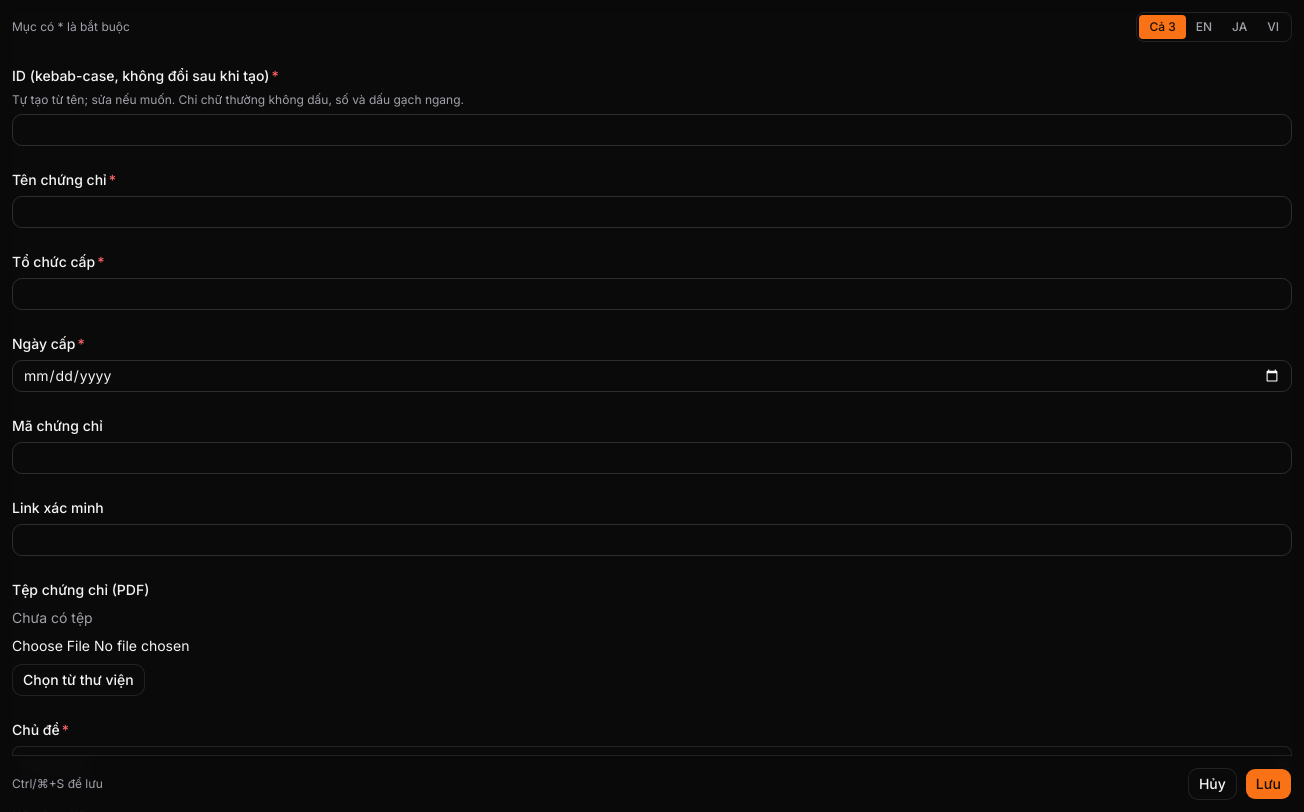
Test: form validation › clears a fixed field from the summary at once
Click the button "Lưu" at {"x": 1268, "y": 784}, box [1245, 768, 1292, 800]
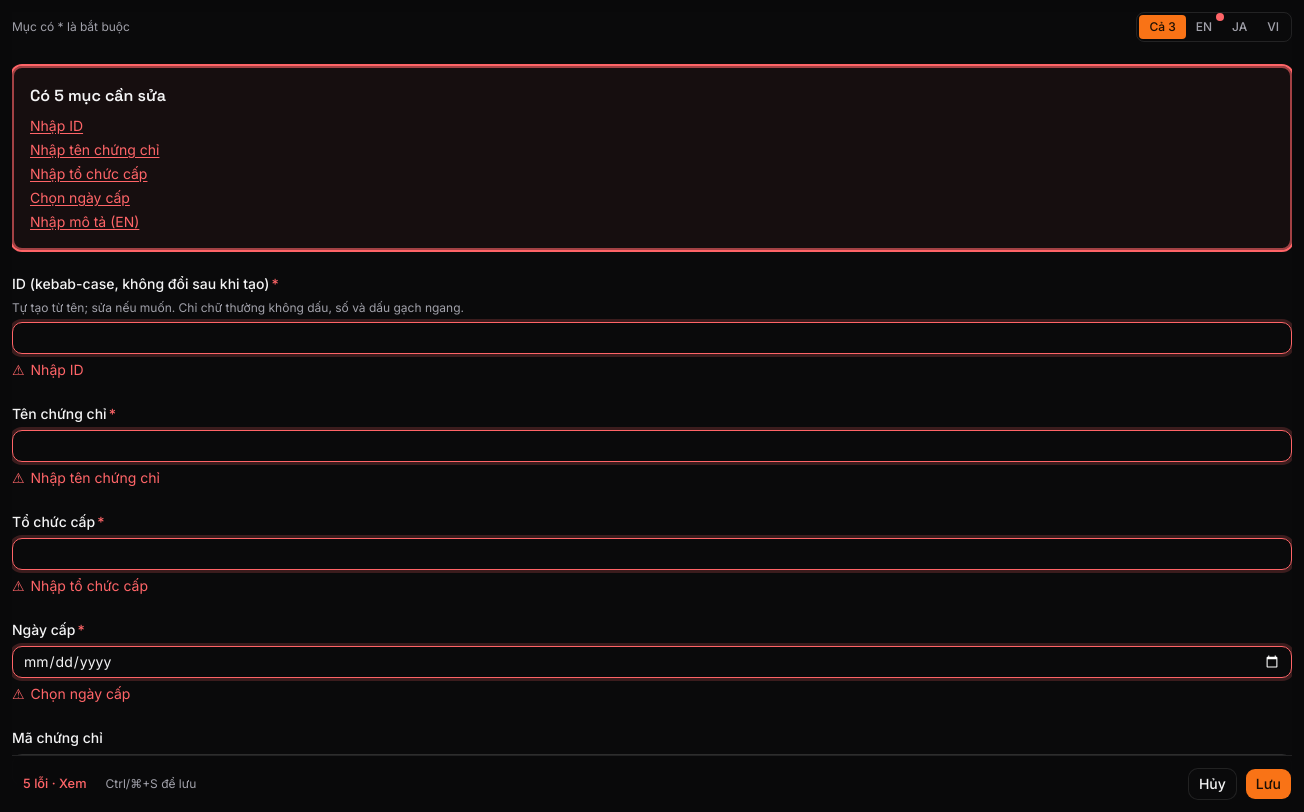
Type "IELTS" into the field with id "field-name" at {"x": 652, "y": 446}, box [12, 430, 1292, 462]
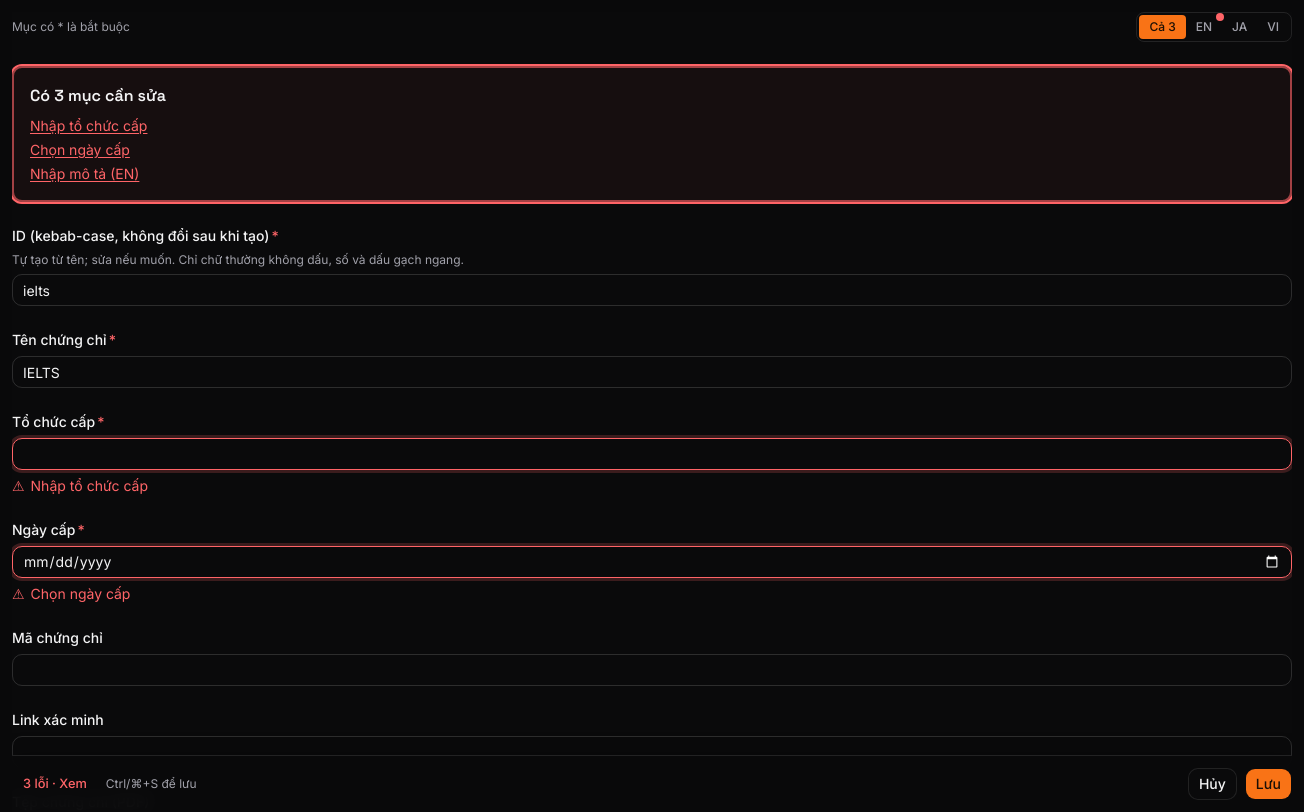
expect the heading "Có 3 mục cần sửa" is shown: met, box [30, 85, 166, 106]
expect the link "Nhập ID" is gone: met
